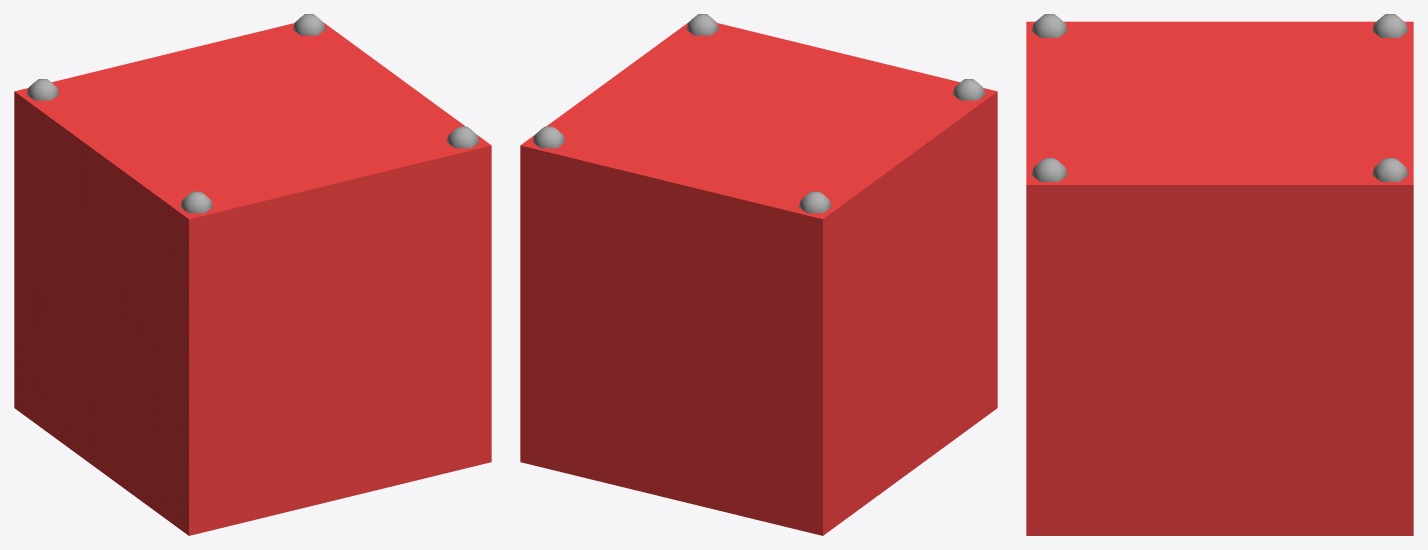
The model's file is rainbow_red.fbx.
3 renders of one model, left to right at view 1: azimuth 30°, elevation 25°; view 2: azimuth 150°, elevation 25°; view 3: azimuth 270°, elevation 25°, orthographic. The views are drawn at different scales.
Visible parts, largest first — view 1: Mesh; view 2: Mesh; view 3: Mesh.
Part boxes in pixels (x1,y1,x2,y2): Mesh: (14,14,491,535); Mesh: (520,14,997,535); Mesh: (1026,14,1413,535).
Bounding box in the file's own units: 1 × 1.05 × 1.
